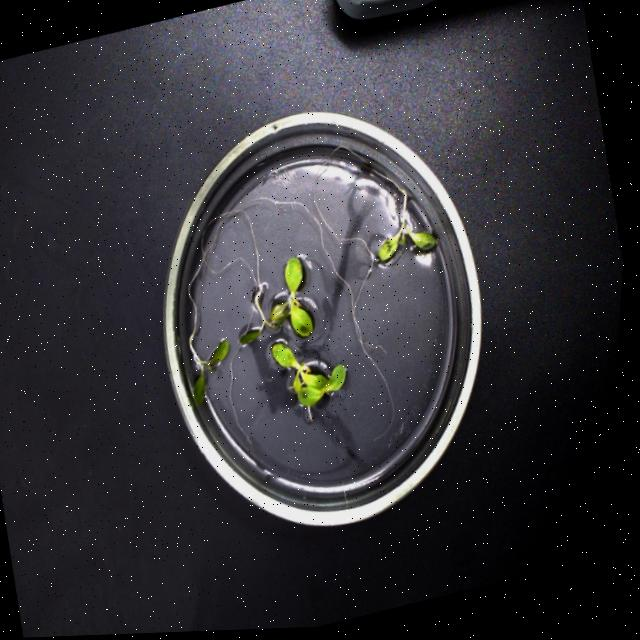leaf: (271, 341, 347, 409), (193, 371, 205, 404)
root: (183, 145, 407, 444)
steb: (250, 308, 272, 334)
